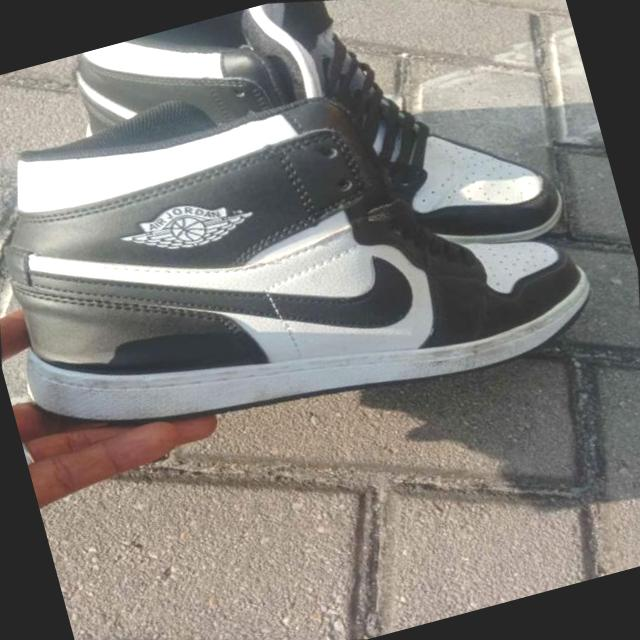nike_fake_jordan: (0, 0, 640, 543), (26, 0, 622, 363)
